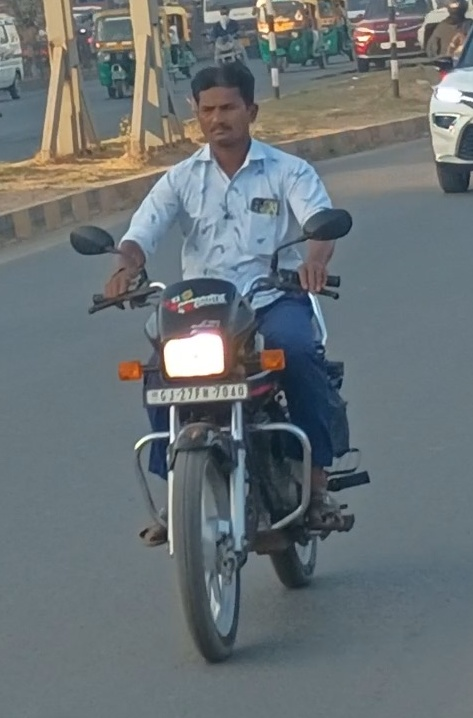BikeWithRider: (62, 53, 377, 670)
NoHelmet: (182, 55, 266, 158)
